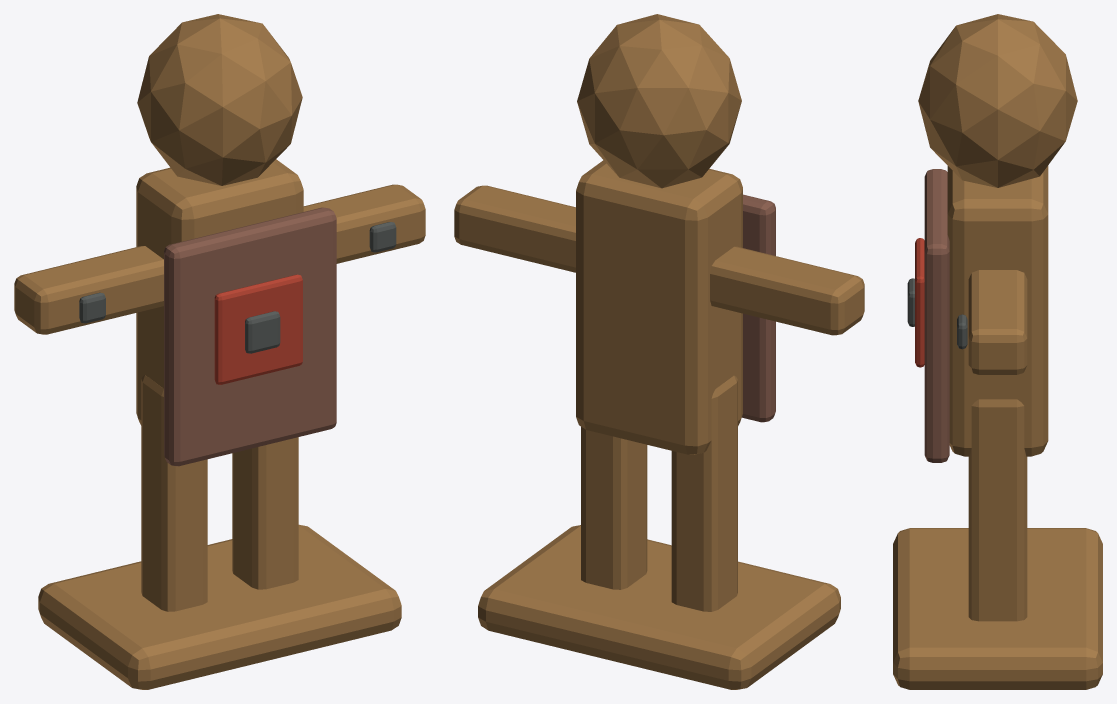
The model's file is wooden_dummy_3998.glb.
3 renders of one model, left to right at view 1: azimuth 30°, elevation 25°; view 2: azimuth 150°, elevation 25°; view 3: azimuth 270°, elevation 25°, orthographic.
Visible parts, largest first — view 1: Wooden base, Draped old tunic, Carved wooden head, Crossbar arms, Wooden torso, Left peg leg, Right peg leg, Target outer, Target center, Iron arm fastener.001, Iron arm fastener; view 2: Wooden torso, Wooden base, Carved wooden head, Crossbar arms, Left peg leg, Right peg leg, Draped old tunic; view 3: Wooden base, Carved wooden head, Wooden torso, Right peg leg, Draped old tunic, Crossbar arms, Target outer, Target center, Iron arm fastener.001.
Boxes of the visible parts, left/top/right/bottom form: Wooden base: left=38, top=524, right=401, bottom=689; Draped old tunic: left=164, top=207, right=336, bottom=466; Carved wooden head: left=137, top=14, right=302, bottom=185; Crossbar arms: left=14, top=184, right=425, bottom=334; Wooden torso: left=136, top=159, right=303, bottom=425; Left peg leg: left=141, top=375, right=207, bottom=611; Right peg leg: left=232, top=437, right=298, bottom=589; Target outer: left=214, top=274, right=302, bottom=384; Target center: left=245, top=311, right=280, bottom=353; Iron arm fastener.001: left=369, top=222, right=396, bottom=252; Iron arm fastener: left=79, top=292, right=105, bottom=323; Wooden torso: left=576, top=160, right=742, bottom=454; Wooden base: left=478, top=525, right=840, bottom=689; Carved wooden head: left=577, top=14, right=741, bottom=188; Crossbar arms: left=454, top=185, right=864, bottom=335; Left peg leg: left=671, top=375, right=737, bottom=611; Right peg leg: left=581, top=427, right=647, bottom=589; Draped old tunic: left=742, top=194, right=775, bottom=422; Wooden base: left=893, top=528, right=1102, bottom=689; Carved wooden head: left=918, top=14, right=1077, bottom=187; Wooden torso: left=947, top=165, right=1048, bottom=456; Right peg leg: left=968, top=399, right=1027, bottom=621; Draped old tunic: left=924, top=169, right=949, bottom=462; Crossbar arms: left=968, top=270, right=1027, bottom=374; Target outer: left=915, top=238, right=924, bottom=367; Target center: left=907, top=278, right=914, bottom=326; Iron arm fastener.001: left=957, top=314, right=967, bottom=349.
Bounding box in the file's own units: 2.15 × 3.21 × 1.
